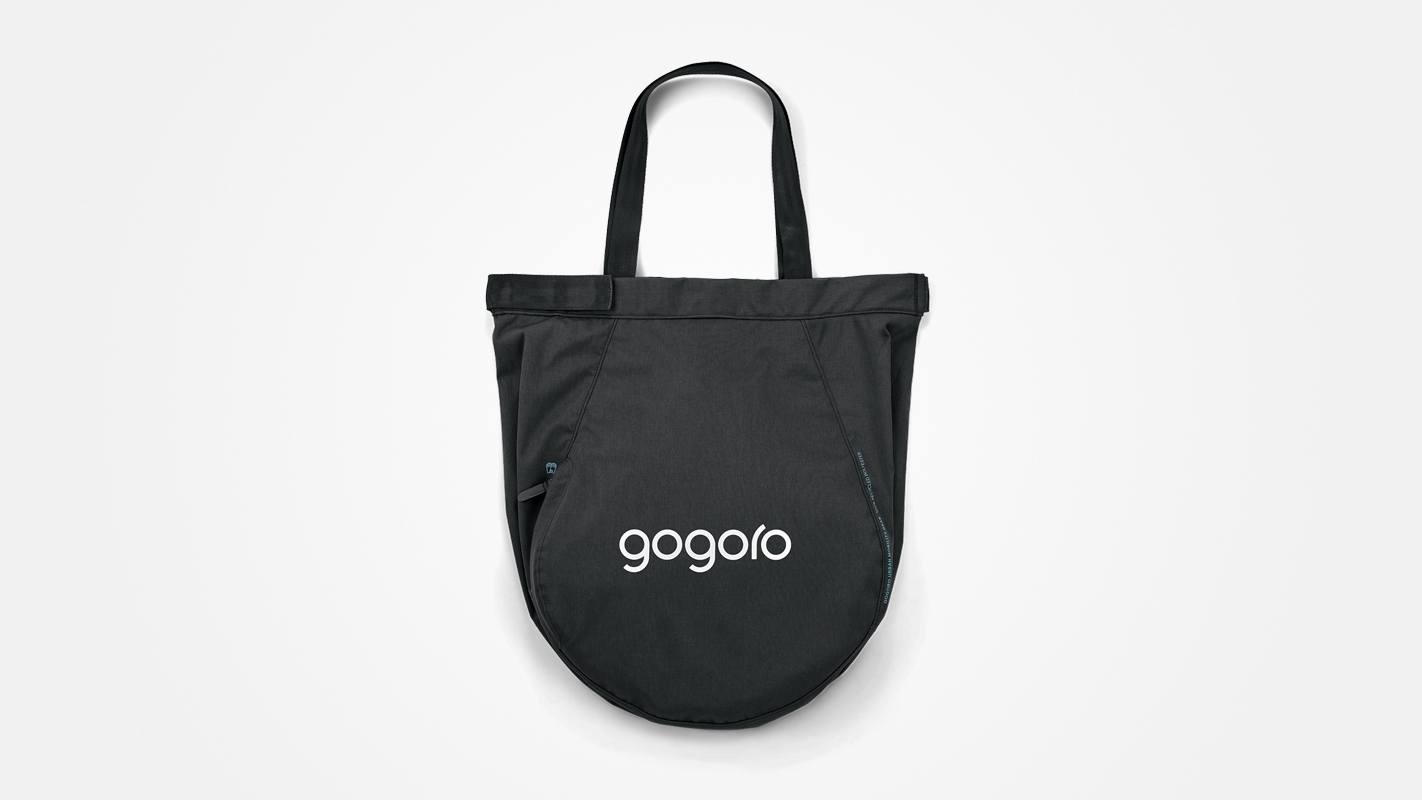flexible: (479, 61, 932, 728)
